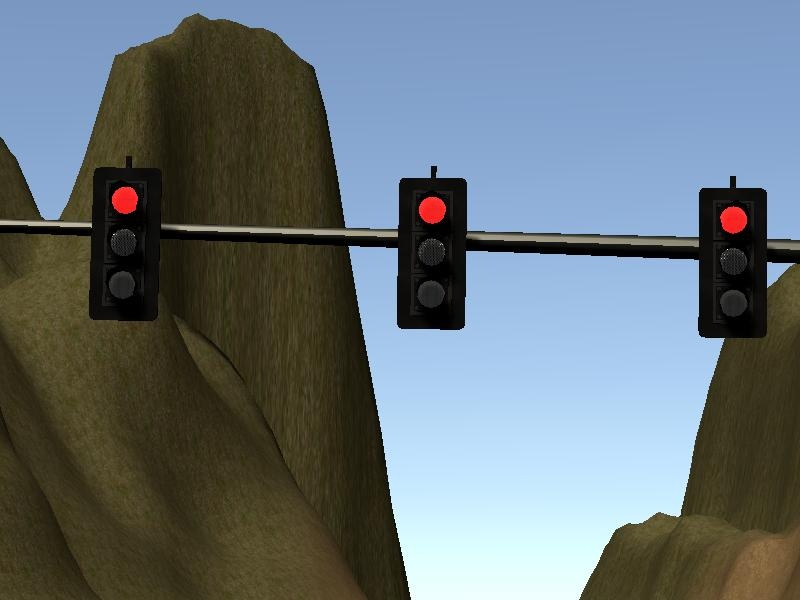red: (86, 164, 163, 322), (395, 176, 469, 331), (695, 185, 768, 340)
